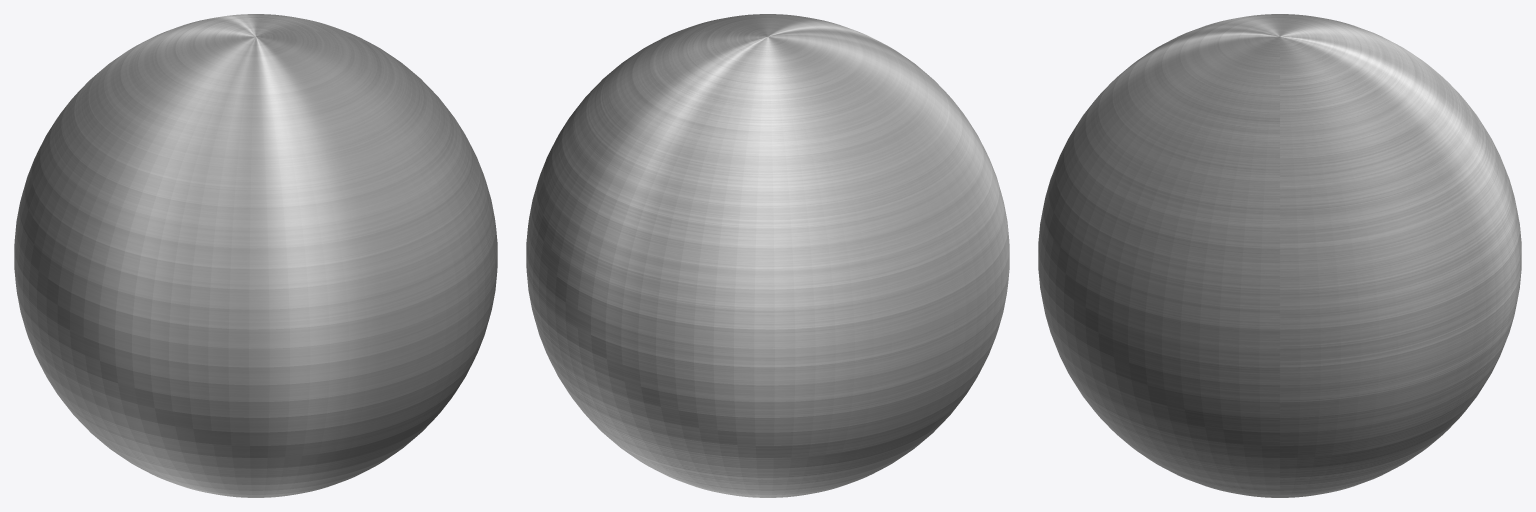
The model's file is ball.fbx.
The picture shows the model from 3 angles, left to right: view 1: azimuth 30°, elevation 25°; view 2: azimuth 150°, elevation 25°; view 3: azimuth 270°, elevation 25°; orthographic projection.
Parts seen in each view (by area): view 1: Объект_Сфера; view 2: Объект_Сфера; view 3: Объект_Сфера.
Part boxes in pixels (box(x1,y1,x2,y2)): Объект_Сфера: box(14, 14, 497, 497); Объект_Сфера: box(526, 14, 1009, 497); Объект_Сфера: box(1038, 14, 1521, 497).
Bounding box in the file's own units: 200 × 200 × 200.
Materials: 1 (1 with a texture image).
